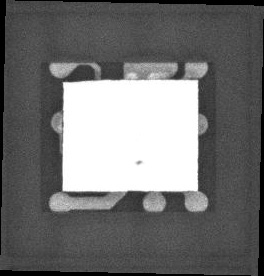DIE_INK: (128, 166, 138, 174)
